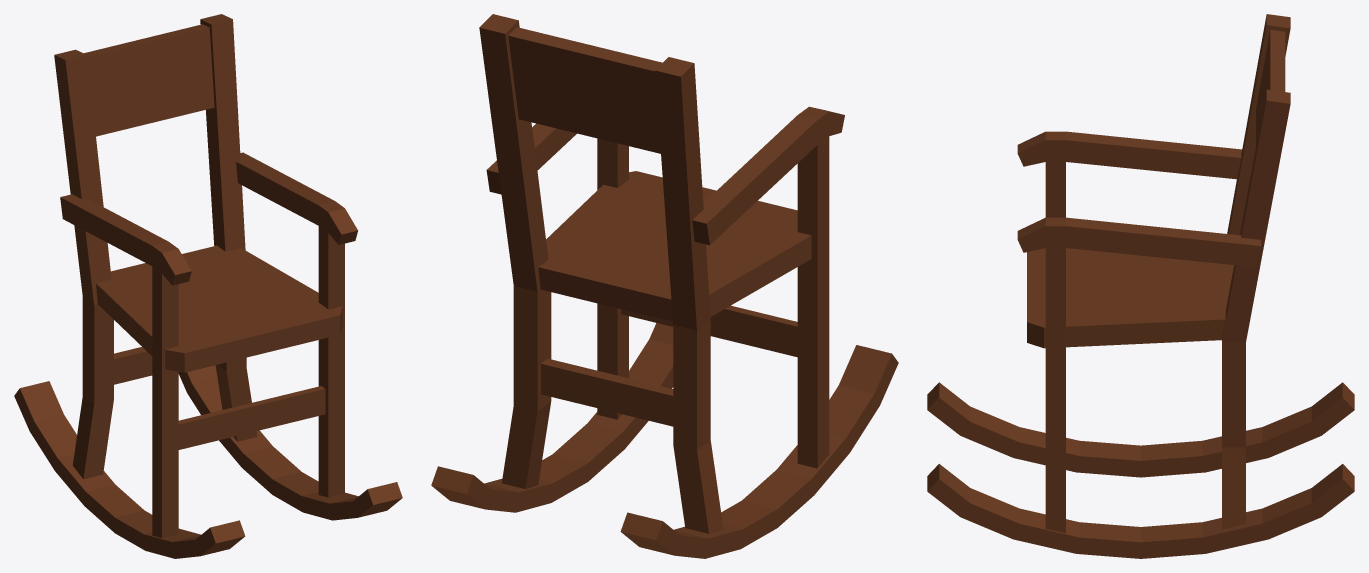
File: RockingChair.glb
3 views of the same model, side by side, from view 1: azimuth 30°, elevation 25°; view 2: azimuth 150°, elevation 25°; view 3: azimuth 270°, elevation 25° (orthographic). The views are drawn at different scales.
Parts seen in each view (by area): view 1: RockingChair; view 2: RockingChair; view 3: RockingChair.
Boxes of the visible parts, x1,y1,x2,y2 form: RockingChair: (14, 14, 402, 558); RockingChair: (431, 14, 898, 558); RockingChair: (927, 14, 1354, 558).
Size of the model in its own units: 0.5849 by 1.28 by 1.09.
